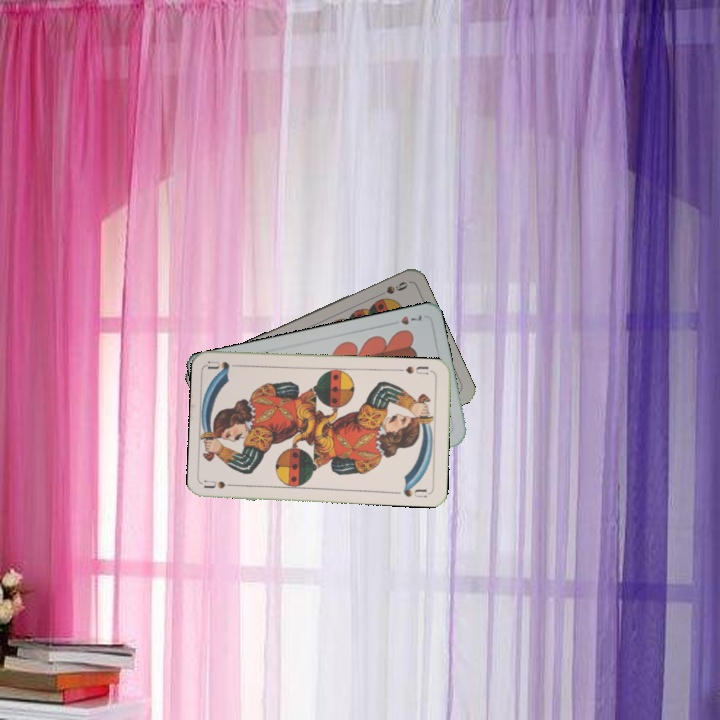H7: (397, 311, 424, 327)
S9: (372, 277, 410, 300)
SU: (395, 362, 435, 377), (202, 476, 242, 491)
